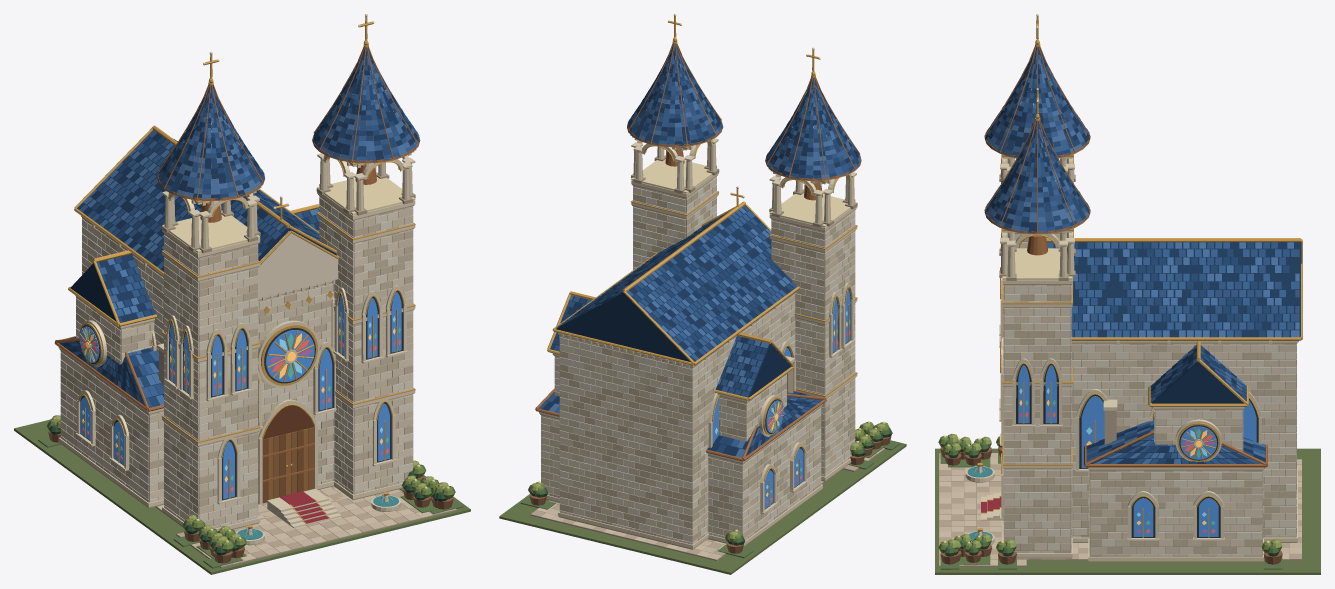
The model's file is chapel-nivel-9.glb.
The picture shows the model from 3 angles, left to right: view 1: azimuth 30°, elevation 25°; view 2: azimuth 150°, elevation 25°; view 3: azimuth 270°, elevation 25°; orthographic projection. The views are drawn at different scales.
Visible parts, largest first — view 1: Capela 09 #e8dcc5, Capela 09 #e6d7ba, Capela 09 #cec1a8, Capela 09 #ded1b9, Capela 09 #eae1ce, Capela 09 #1b385b, Capela 09 #d5a452, Capela 09 #406c9f, Capela 09 #355f90, Capela 09 #234771, Capela 09 #2e5481, Capela 09 #4670a0 (+18 smaller); view 2: Capela 09 #cec1a8, Capela 09 #1b385b, Capela 09 #ded1b9, Capela 09 #e8dcc5, Capela 09 #eae1ce, Capela 09 #e6d7ba, Capela 09 #355f90, Capela 09 #2e5481, Capela 09 #234771, Capela 09 #6c7d4e, Capela 09 #4670a0, Capela 09 #d5a452 (+10 smaller); view 3: Capela 09 #1b385b, Capela 09 #ded1b9, Capela 09 #e8dcc5, Capela 09 #cec1a8, Capela 09 #eae1ce, Capela 09 #e6d7ba, Capela 09 #2e5481, Capela 09 #355f90, Capela 09 #6c7d4e, Capela 09 #234771, Capela 09 #4670a0, Capela 09 #b3a390 (+15 smaller).
Part boxes in pixels (left/top/right/bottom): Capela 09 #e8dcc5: left=60, top=196, right=413, bottom=524; Capela 09 #e6d7ba: left=58, top=153, right=415, bottom=544; Capela 09 #cec1a8: left=60, top=197, right=413, bottom=520; Capela 09 #ded1b9: left=60, top=153, right=413, bottom=528; Capela 09 #eae1ce: left=60, top=205, right=413, bottom=527; Capela 09 #1b385b: left=60, top=48, right=417, bottom=406; Capela 09 #d5a452: left=68, top=16, right=416, bottom=528; Capela 09 #406c9f: left=80, top=292, right=401, bottom=499; Capela 09 #355f90: left=59, top=48, right=418, bottom=403; Capela 09 #234771: left=64, top=48, right=419, bottom=406; Capela 09 #2e5481: left=67, top=48, right=411, bottom=407; Capela 09 #4670a0: left=79, top=47, right=419, bottom=405; Capela 09 #cec1a8: left=541, top=183, right=855, bottom=541; Capela 09 #1b385b: left=542, top=47, right=859, bottom=456; Capela 09 #ded1b9: left=541, top=138, right=855, bottom=538; Capela 09 #e8dcc5: left=541, top=177, right=855, bottom=544; Capela 09 #eae1ce: left=541, top=176, right=855, bottom=544; Capela 09 #e6d7ba: left=539, top=138, right=857, bottom=548; Capela 09 #355f90: left=555, top=44, right=858, bottom=455; Capela 09 #2e5481: left=538, top=45, right=852, bottom=447; Capela 09 #234771: left=550, top=47, right=860, bottom=452; Capela 09 #6c7d4e: left=499, top=440, right=906, bottom=574; Capela 09 #4670a0: left=548, top=44, right=861, bottom=457; Capela 09 #d5a452: left=547, top=16, right=857, bottom=506; Capela 09 #1b385b: left=985, top=47, right=1300, bottom=463; Capela 09 #ded1b9: left=1001, top=154, right=1298, bottom=556; Capela 09 #e8dcc5: left=1003, top=242, right=1296, bottom=556; Capela 09 #cec1a8: left=1003, top=233, right=1296, bottom=556; Capela 09 #eae1ce: left=1003, top=233, right=1296, bottom=556; Capela 09 #e6d7ba: left=965, top=158, right=1297, bottom=561; Capela 09 #2e5481: left=985, top=47, right=1299, bottom=463; Capela 09 #355f90: left=985, top=50, right=1299, bottom=463; Capela 09 #6c7d4e: left=935, top=448, right=1320, bottom=574; Capela 09 #234771: left=987, top=50, right=1289, bottom=463; Capela 09 #4670a0: left=985, top=47, right=1299, bottom=463; Capela 09 #b3a390: left=1004, top=234, right=1296, bottom=556.
Bounding box in the file's own units: 12.75 × 22.15 × 16.77.
